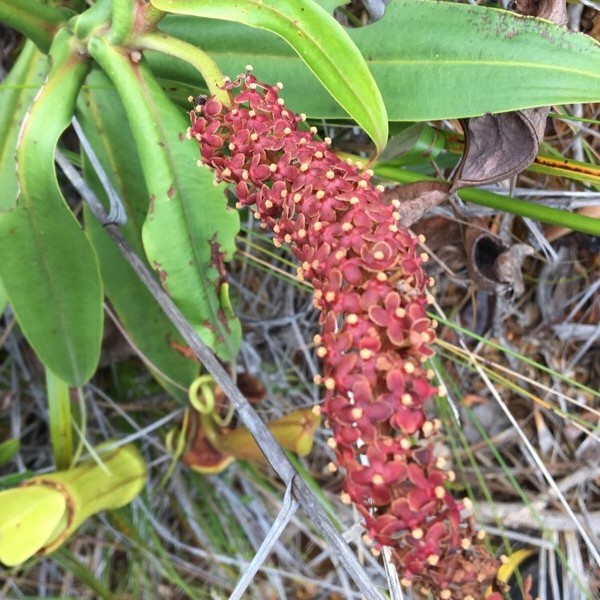obstacle: (45, 9, 512, 550)
